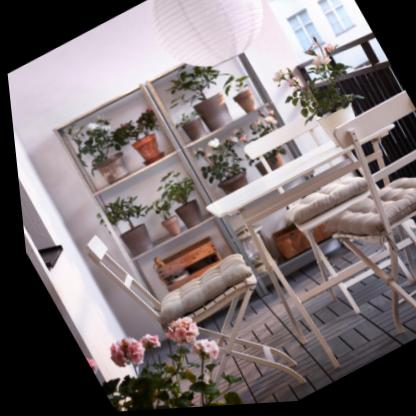Chair: (65, 171, 310, 414), (269, 91, 416, 360)
